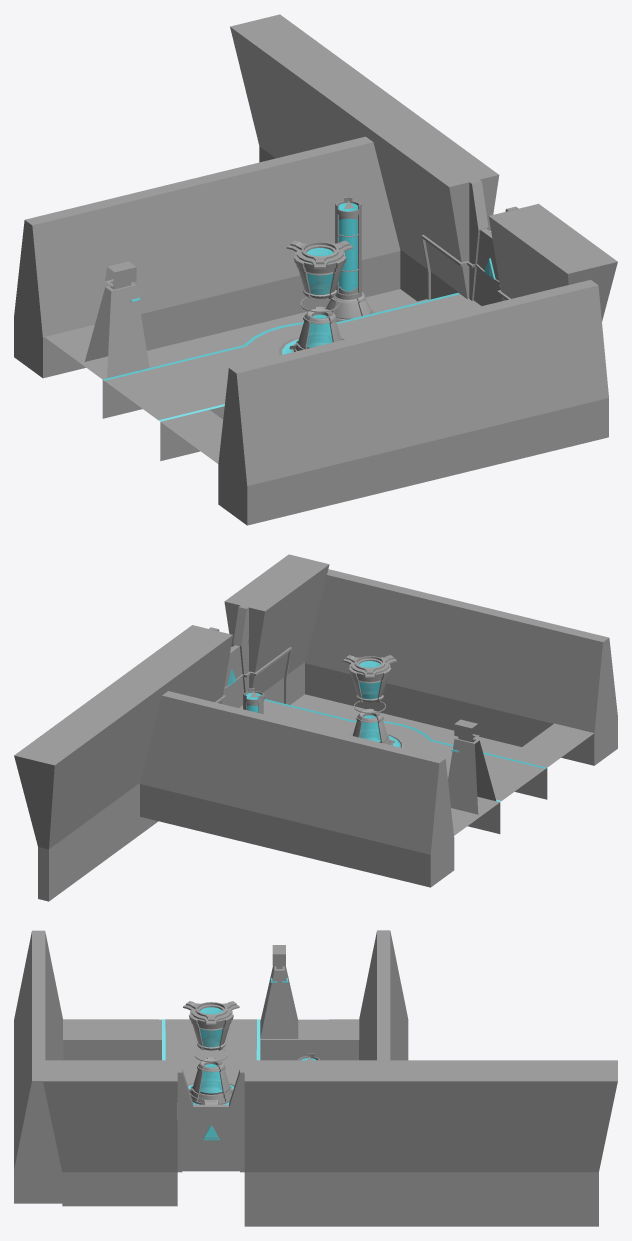
Rendered from L1_RM4_Models with UVs.fbx.
The picture shows the model from 3 angles, top to bottom: view 1: azimuth 30°, elevation 25°; view 2: azimuth 150°, elevation 25°; view 3: azimuth 270°, elevation 25°; orthographic projection. The views are drawn at different scales.
Visible parts, largest first — view 1: L1_RM4_wall_1, L1_RM4_wall_2, L1_RM4_lab_door_walls_left, L1_RM04_ground1, L1_RM4_lab_door_wall_right, L1_RM04_ground2, L1_RM4_wall_column, L1_RM4_energy_machine_top, L1_RM4_energy_column_light, L1_RM4_energy_machine_base, L1_RM4_energy_clolumn_frame, L1_RM4_door_left2 (+1 smaller); view 2: L1_RM4_wall_2, L1_RM4_wall_1, L1_RM4_lab_door_walls_left, L1_RM4_lab_door_wall_right, L1_RM04_ground1, L1_RM04_ground2, L1_RM4_wall_column, L1_RM4_energy_machine_top, L1_RM4_energy_machine_base, L1_RM4_door_right2; view 3: L1_RM4_lab_door_walls_left, L1_RM4_lab_door_wall_right, L1_RM4_wall_1, L1_RM04_ground2, L1_RM4_wall_2, L1_RM04_ground1, L1_RM4_wall_column, L1_RM4_energy_machine_top, L1_RM4_door_right2, L1_RM4_door_left2, L1_RM4_energy_machine_base, L1_RM4_energy_machine_top_light (+1 smaller).
Part boxes in pixels (bbox=[...]): L1_RM4_wall_1: bbox=[218, 279, 608, 525]; L1_RM4_wall_2: bbox=[14, 136, 400, 378]; L1_RM4_lab_door_walls_left: bbox=[230, 14, 499, 301]; L1_RM04_ground1: bbox=[102, 292, 481, 461]; L1_RM4_lab_door_wall_right: bbox=[488, 203, 617, 321]; L1_RM04_ground2: bbox=[45, 289, 416, 463]; L1_RM4_wall_column: bbox=[84, 261, 149, 378]; L1_RM4_energy_machine_top: bbox=[286, 240, 353, 298]; L1_RM4_energy_column_light: bbox=[338, 203, 357, 292]; L1_RM4_energy_machine_base: bbox=[289, 306, 341, 351]; L1_RM4_energy_clolumn_frame: bbox=[335, 197, 361, 299]; L1_RM4_door_left2: bbox=[474, 228, 494, 305]; L1_RM4_wall_2: bbox=[140, 691, 454, 887]; L1_RM4_wall_1: bbox=[305, 569, 617, 765]; L1_RM4_lab_door_walls_left: bbox=[14, 625, 232, 901]; L1_RM4_lab_door_wall_right: bbox=[224, 554, 329, 704]; L1_RM04_ground1: bbox=[239, 699, 547, 833]; L1_RM04_ground2: bbox=[291, 694, 593, 835]; L1_RM4_wall_column: bbox=[448, 719, 496, 814]; L1_RM4_energy_machine_top: bbox=[342, 655, 396, 702]; L1_RM4_energy_machine_base: bbox=[352, 708, 394, 745]; L1_RM4_door_right2: bbox=[228, 645, 243, 707]; L1_RM4_lab_door_walls_left: bbox=[229, 1060, 617, 1226]; L1_RM4_lab_door_wall_right: bbox=[43, 1060, 193, 1206]; L1_RM4_wall_1: bbox=[14, 930, 63, 1203]; L1_RM04_ground2: bbox=[63, 1019, 359, 1060]; L1_RM4_wall_2: bbox=[359, 930, 408, 1060]; L1_RM04_ground1: bbox=[162, 1019, 260, 1136]; L1_RM4_wall_column: bbox=[260, 945, 298, 1038]; L1_RM4_energy_machine_top: bbox=[183, 1001, 239, 1050]; L1_RM4_door_right2: bbox=[182, 1104, 211, 1171]; L1_RM4_door_left2: bbox=[211, 1104, 239, 1171]; L1_RM4_energy_machine_base: bbox=[189, 1057, 233, 1104]; L1_RM4_energy_machine_top_light: bbox=[200, 1007, 222, 1047].
Size of the model in its own units: 3884 by 1719 by 6135.
